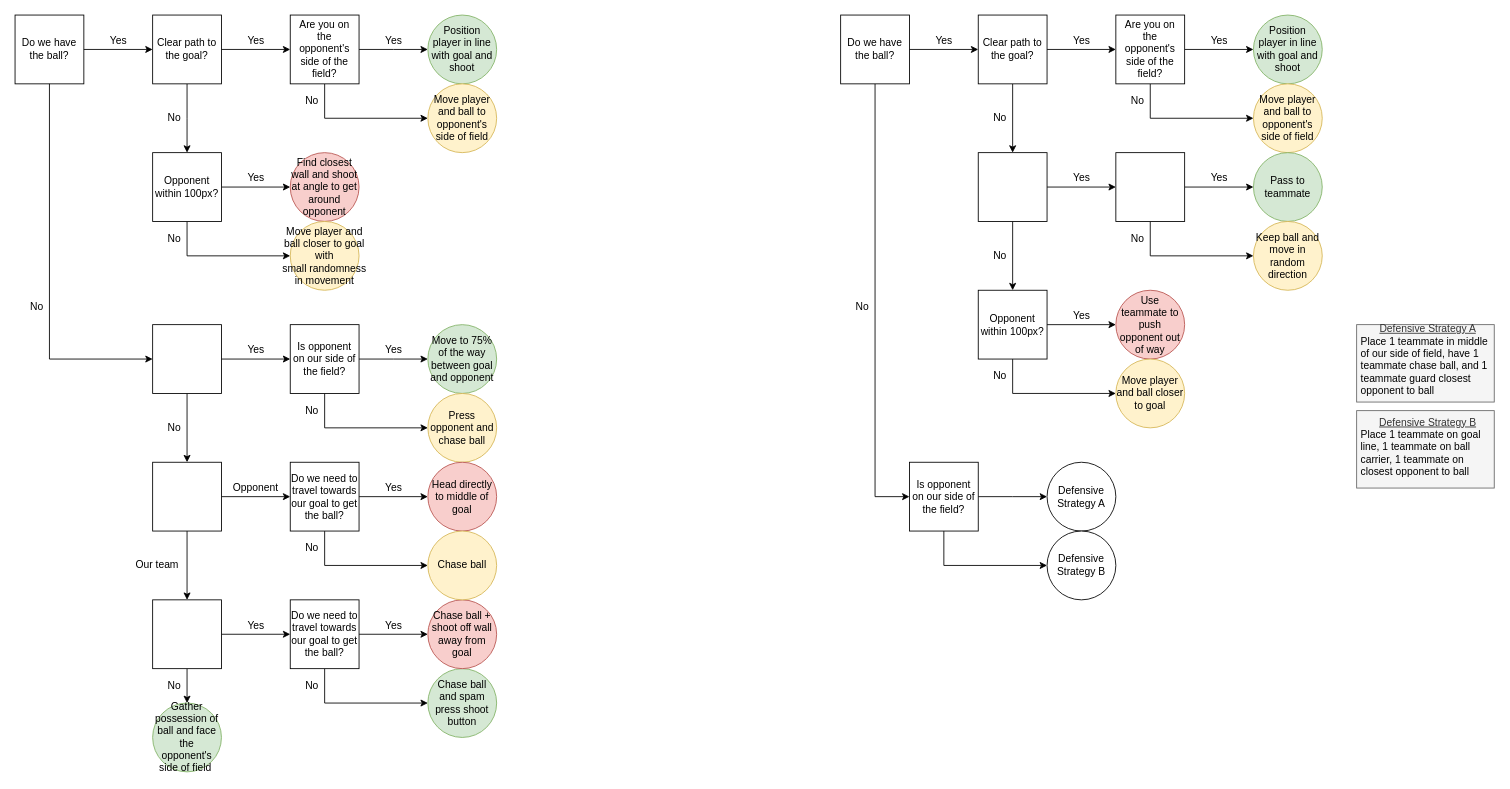
The diagram is 1510 pixels wide and 789 high, and some of its shapes have lost their labels. The centre of each missing label's shape, as x and y in pixels:
"Does opponent have ball?" belongs at pixel 186 358.
"Is there a teammate closer to the goal than the player with the ball?" belongs at pixel 1150 186.
"Opponent within 200px of us?" belongs at pixel 186 634.
"Unobstructed teammate?" belongs at pixel 1012 186.
"Who is closer to the ball?" belongs at pixel 186 496.
